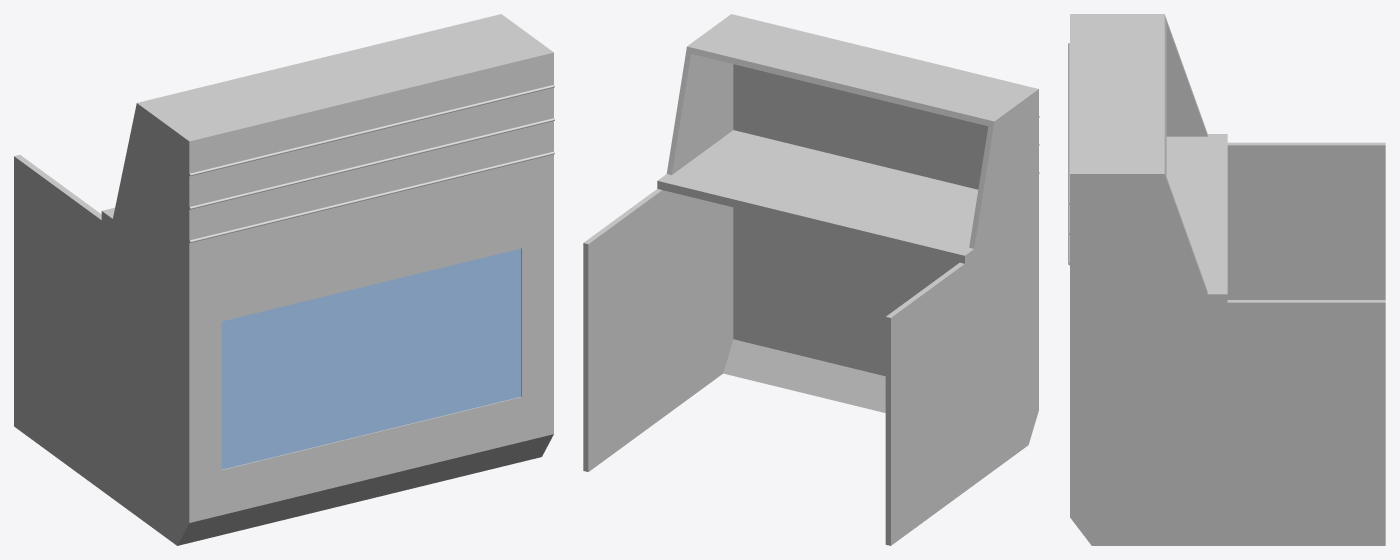
The model's file is Ticket_control_desk.fbx.
3 renders of one model, left to right at view 1: azimuth 30°, elevation 25°; view 2: azimuth 150°, elevation 25°; view 3: azimuth 270°, elevation 25°, orthographic. The views are drawn at different scales.
Visible parts, largest first — view 1: Registration_desk; view 2: Registration_desk; view 3: Registration_desk.
Part boxes in pixels (x1,y1,x2,y2): Registration_desk: (14, 14, 554, 545); Registration_desk: (583, 14, 1039, 545); Registration_desk: (1068, 14, 1385, 545).
Bounding box in the file's own units: 120 × 130 × 101.
